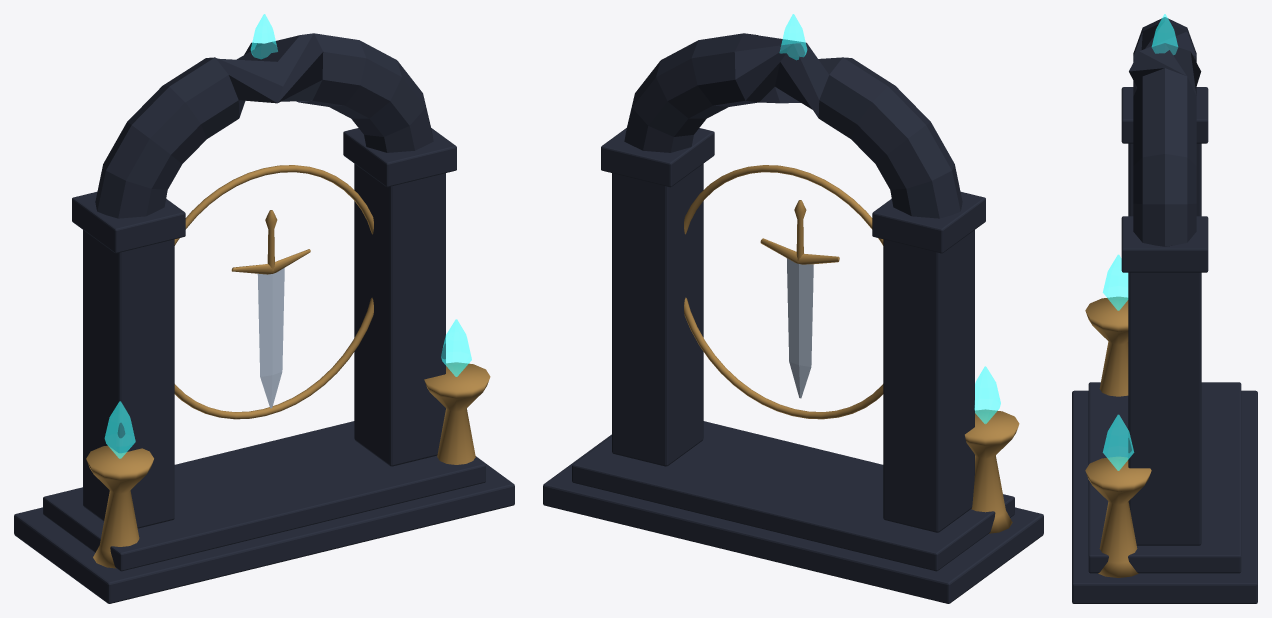
The model's file is webtoon-raid-return-relic-portal-gate-v18.glb.
The picture shows the model from 3 angles, left to right: view 1: azimuth 30°, elevation 25°; view 2: azimuth 150°, elevation 25°; view 3: azimuth 270°, elevation 25°; orthographic projection. The views are drawn at different scales.
Visible parts, largest first — view 1: RaidPortalBasaltArch, RaidPortalBronzeBraziersAndHilt, RaidPortalAetherCrystals, RaidReturnGreatswordBlade; view 2: RaidPortalBasaltArch, RaidPortalBronzeBraziersAndHilt, RaidReturnGreatswordBlade, RaidPortalAetherCrystals; view 3: RaidPortalBasaltArch, RaidPortalBronzeBraziersAndHilt, RaidPortalAetherCrystals.
Part boxes in pixels (x1=…): RaidPortalBasaltArch: x1=14, y1=33, x2=514, y2=603; RaidPortalBronzeBraziersAndHilt: x1=86, y1=165, x2=490, y2=568; RaidPortalAetherCrystals: x1=104, y1=14, x2=471, y2=458; RaidReturnGreatswordBlade: x1=257, y1=268, x2=284, y2=408; RaidPortalBasaltArch: x1=543, y1=33, x2=1043, y2=603; RaidPortalBronzeBraziersAndHilt: x1=684, y1=165, x2=1019, y2=533; RaidReturnGreatswordBlade: x1=786, y1=258, x2=813, y2=398; RaidPortalAetherCrystals: x1=779, y1=14, x2=1000, y2=423; RaidPortalBasaltArch: x1=1072, y1=17, x2=1257, y2=603; RaidPortalBronzeBraziersAndHilt: x1=1085, y1=297, x2=1151, y2=577; RaidPortalAetherCrystals: x1=1103, y1=14, x2=1177, y2=470.
Bounding box in the file's own units: 2.76 × 3.28 × 1.12.
